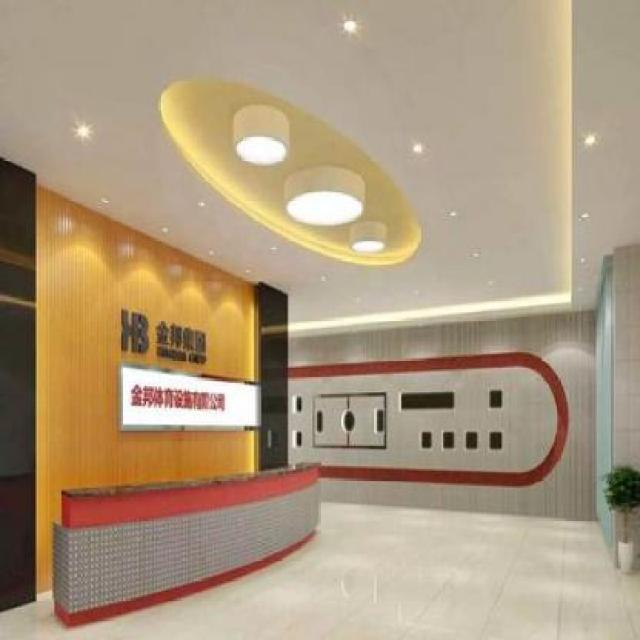frontdesk: (49, 458, 334, 632)
